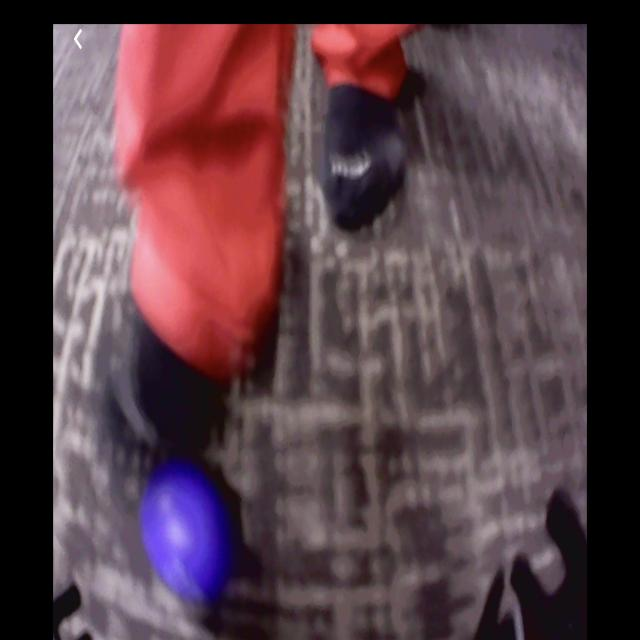ball: (142, 458, 230, 604)
